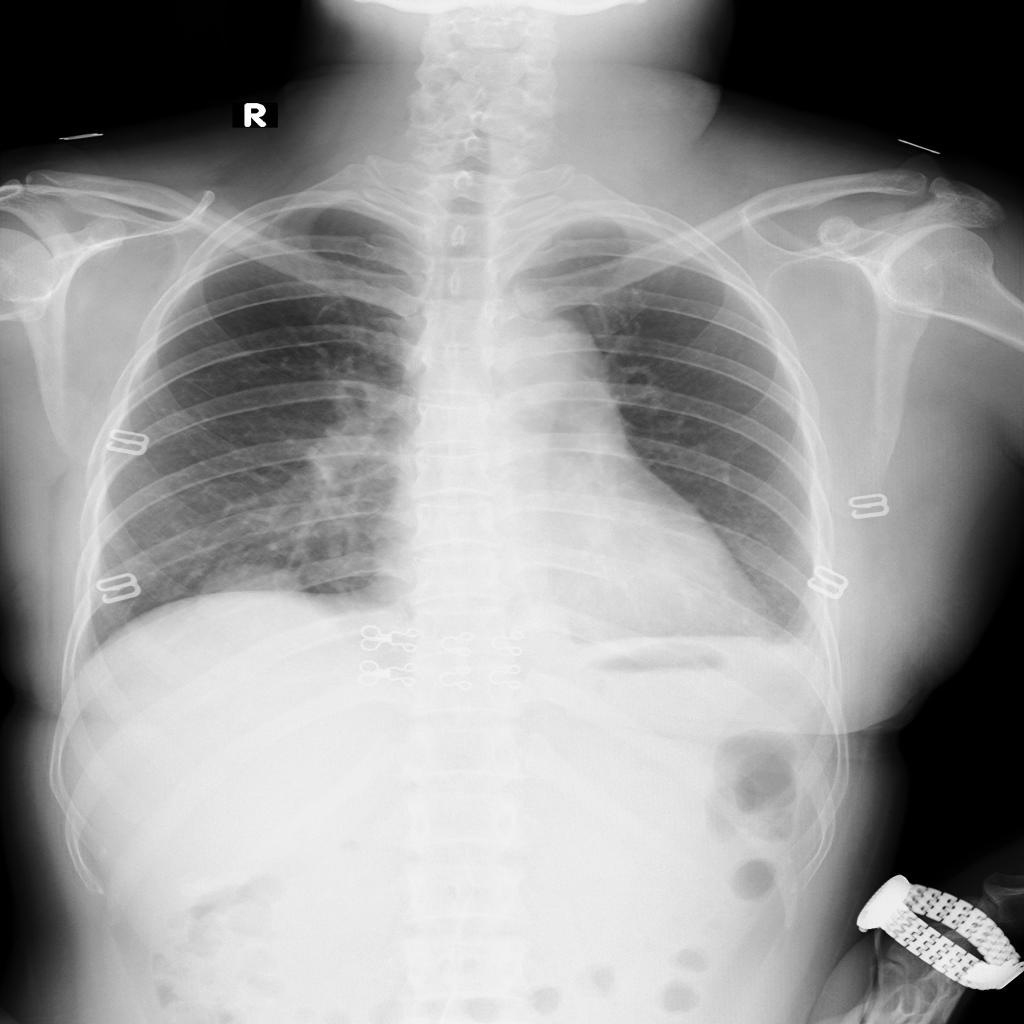Nodule: (195, 562, 311, 643)
